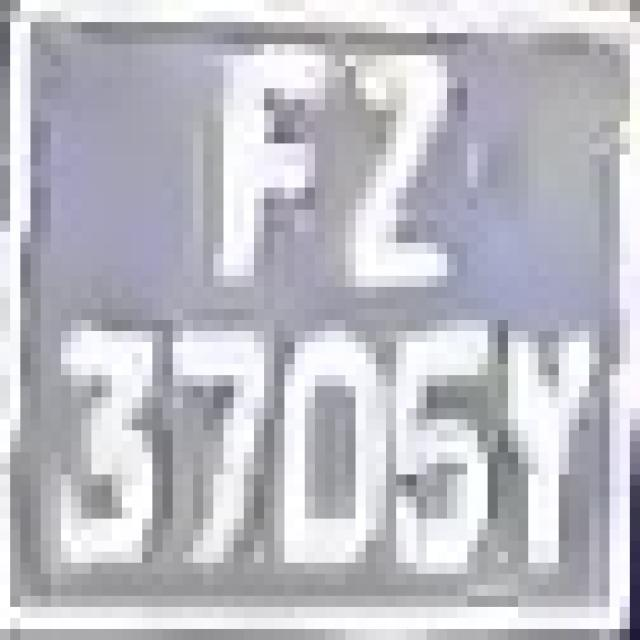0: (254, 309, 396, 585)
3: (31, 276, 162, 574)
5: (376, 287, 498, 585)
7: (153, 276, 294, 574)
F: (173, 55, 335, 287)
Y: (478, 276, 620, 585)
Z: (305, 22, 498, 342)
